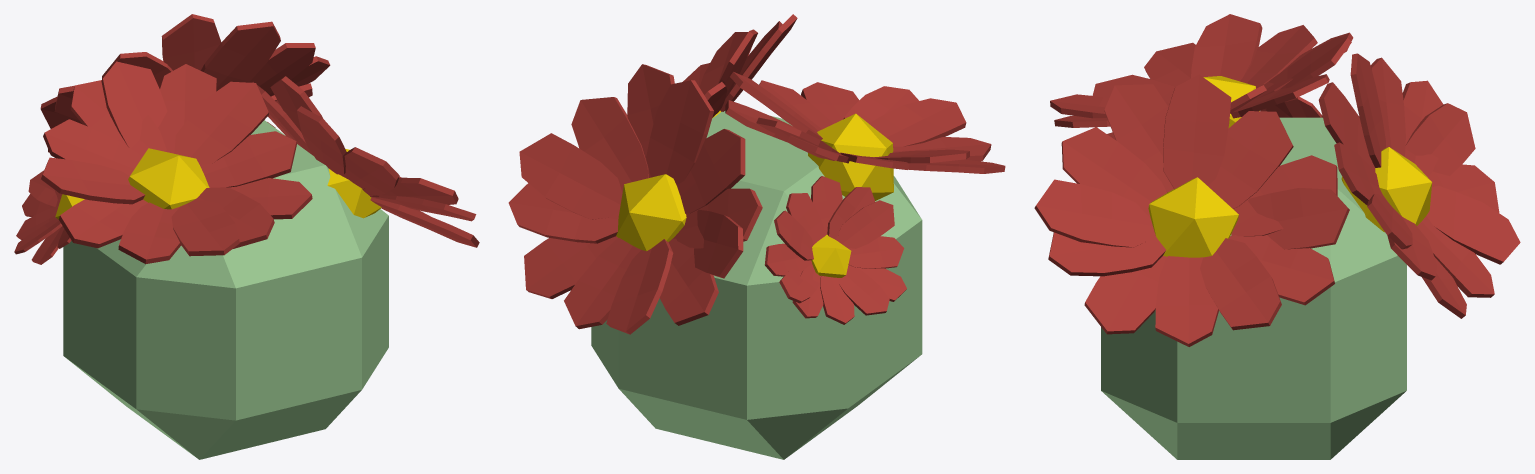
File: FlowerBush.fbx
3 renders of one model, left to right at view 1: azimuth 30°, elevation 25°; view 2: azimuth 150°, elevation 25°; view 3: azimuth 270°, elevation 25°, orthographic. The views are drawn at different scales.
Parts seen in each view (by area): view 1: FlowerBush2; view 2: FlowerBush2; view 3: FlowerBush2.
Part boxes in pixels (<box>): FlowerBush2: <box>14,14,479,459</box>; FlowerBush2: <box>508,14,1005,459</box>; FlowerBush2: <box>1034,14,1520,459</box>.
Bounding box in the file's own units: 0.2063 × 0.1859 × 0.2144.
